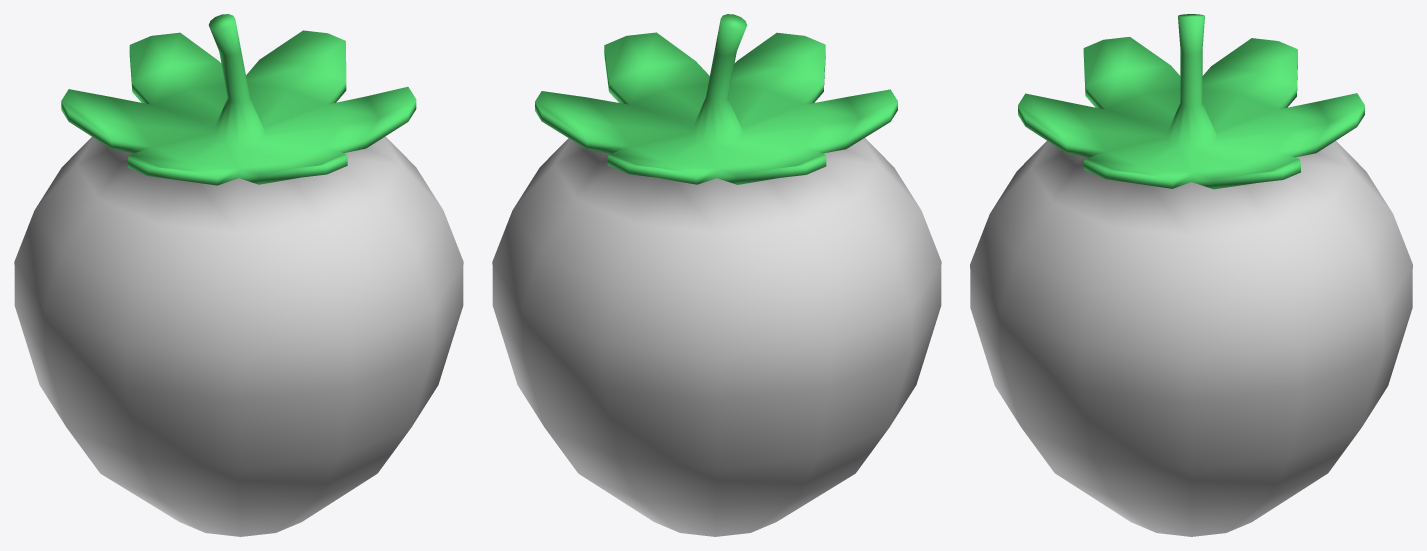
The model's file is fragola_marcia.fbx.
The picture shows the model from 3 angles, left to right: view 1: azimuth 30°, elevation 25°; view 2: azimuth 150°, elevation 25°; view 3: azimuth 270°, elevation 25°; orthographic projection.
Visible parts, largest first — view 1: Fragole; view 2: Fragole; view 3: Fragole.
Boxes of the visible parts, bbox=[...] form: Fragole: bbox=[14, 14, 463, 536]; Fragole: bbox=[492, 14, 941, 536]; Fragole: bbox=[970, 14, 1412, 536].
Bounding box in the file's own units: 174 × 218 × 174.
